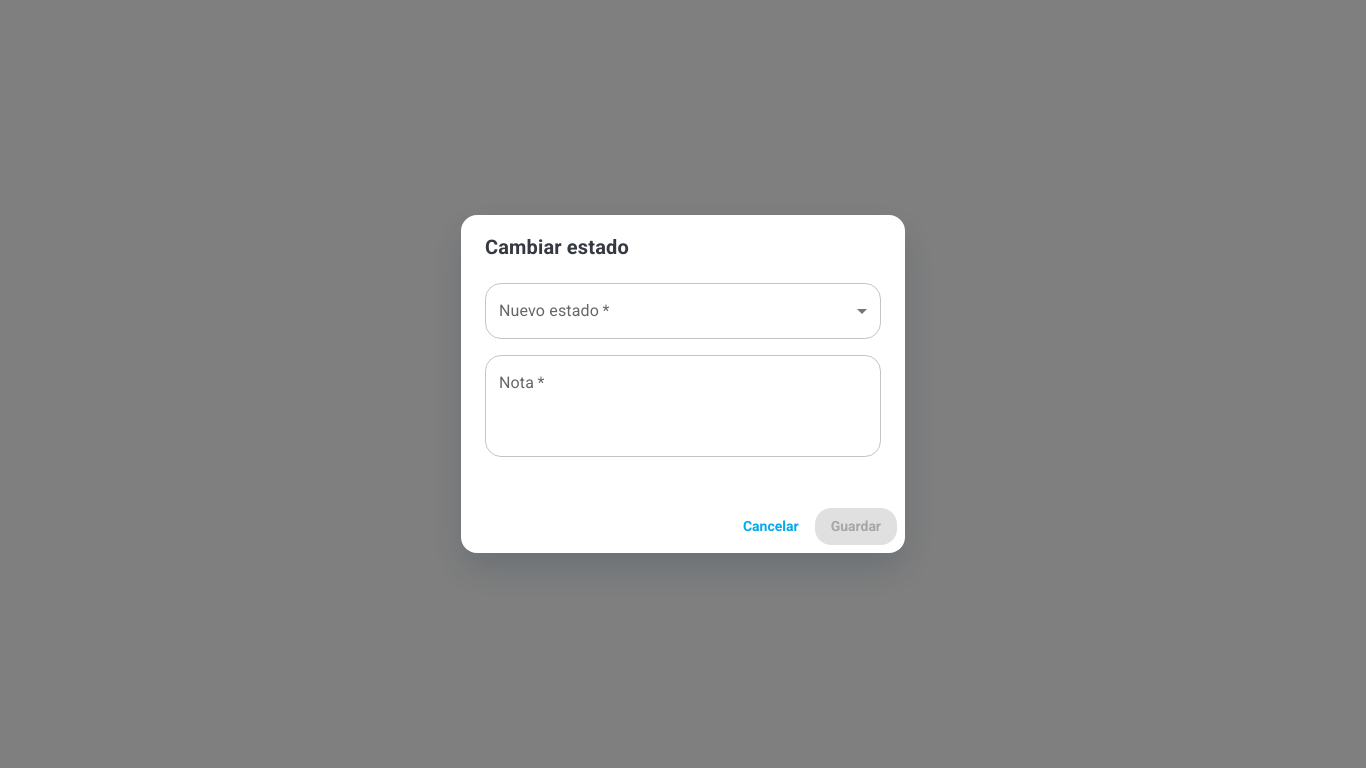
Test: CambiarEstadoDialog › la nota vacía sigue bloqueando el submit aunque haya estado seleccionado
The width and height of the screenshot is (1366, 768).
Click the dropdown named "Nuevo estado".
click(683, 311)  # box x1=485 y1=283 x2=881 y2=339
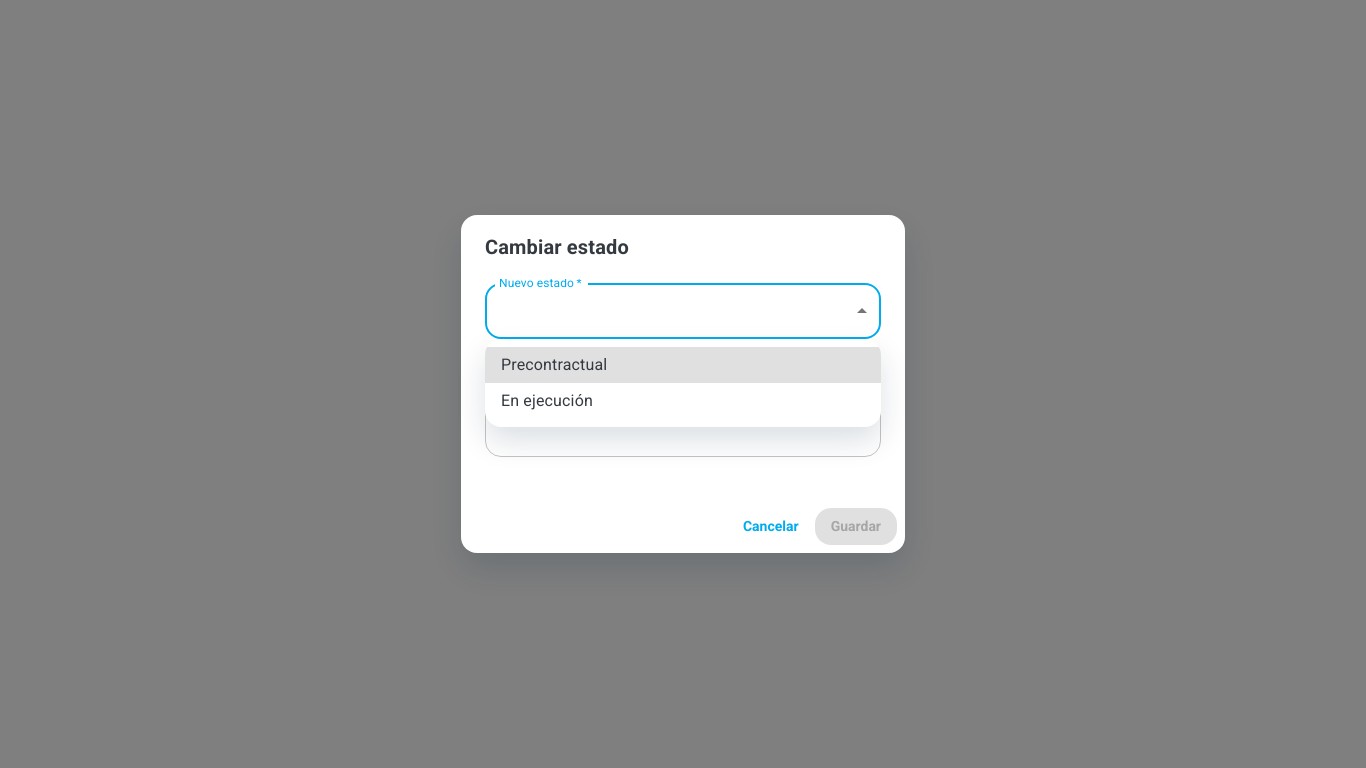
Click the option "En ejecución".
click(547, 400)  # box x1=501 y1=391 x2=593 y2=410
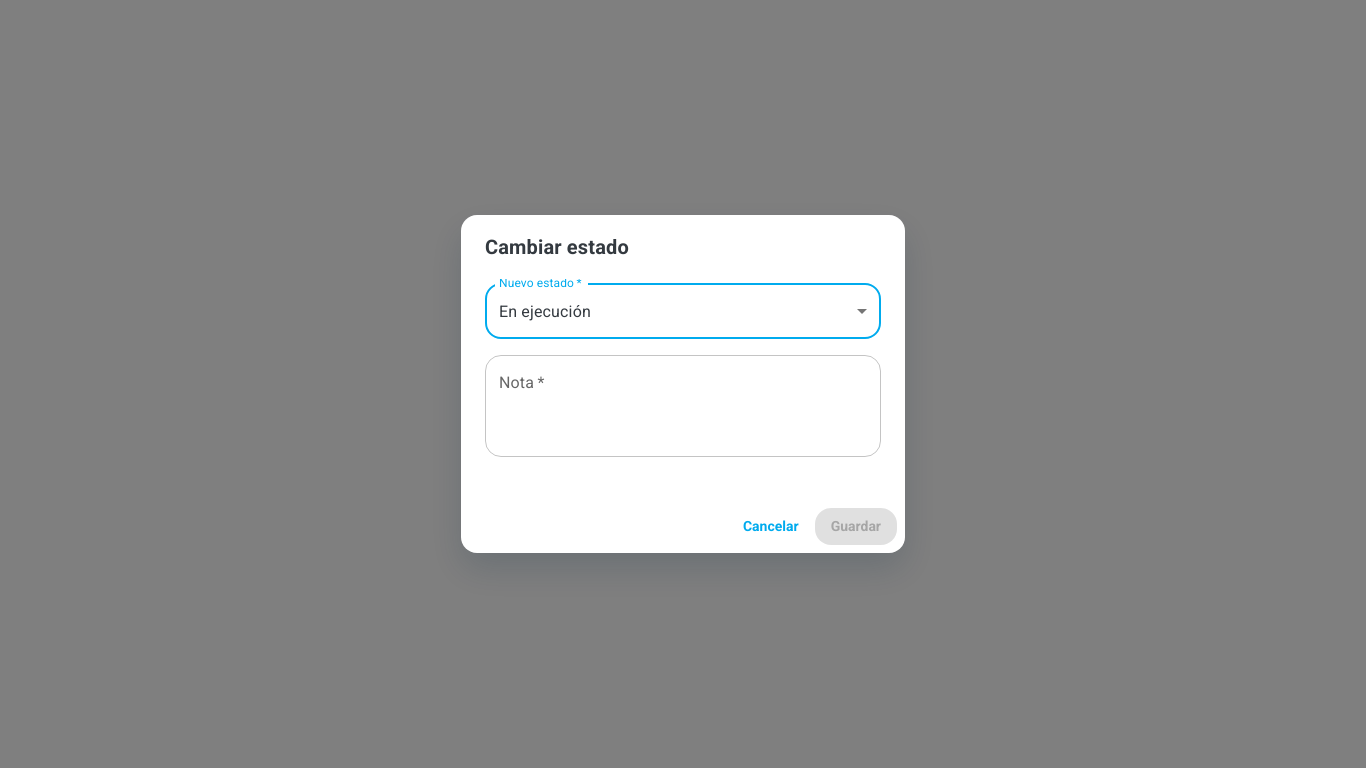
Expected: the button "Guardar" is disabled, x1=815 y1=508 x2=897 y2=545
Click the text box labelled "Nota *".
click(683, 406)  # box x1=499 y1=372 x2=867 y2=441
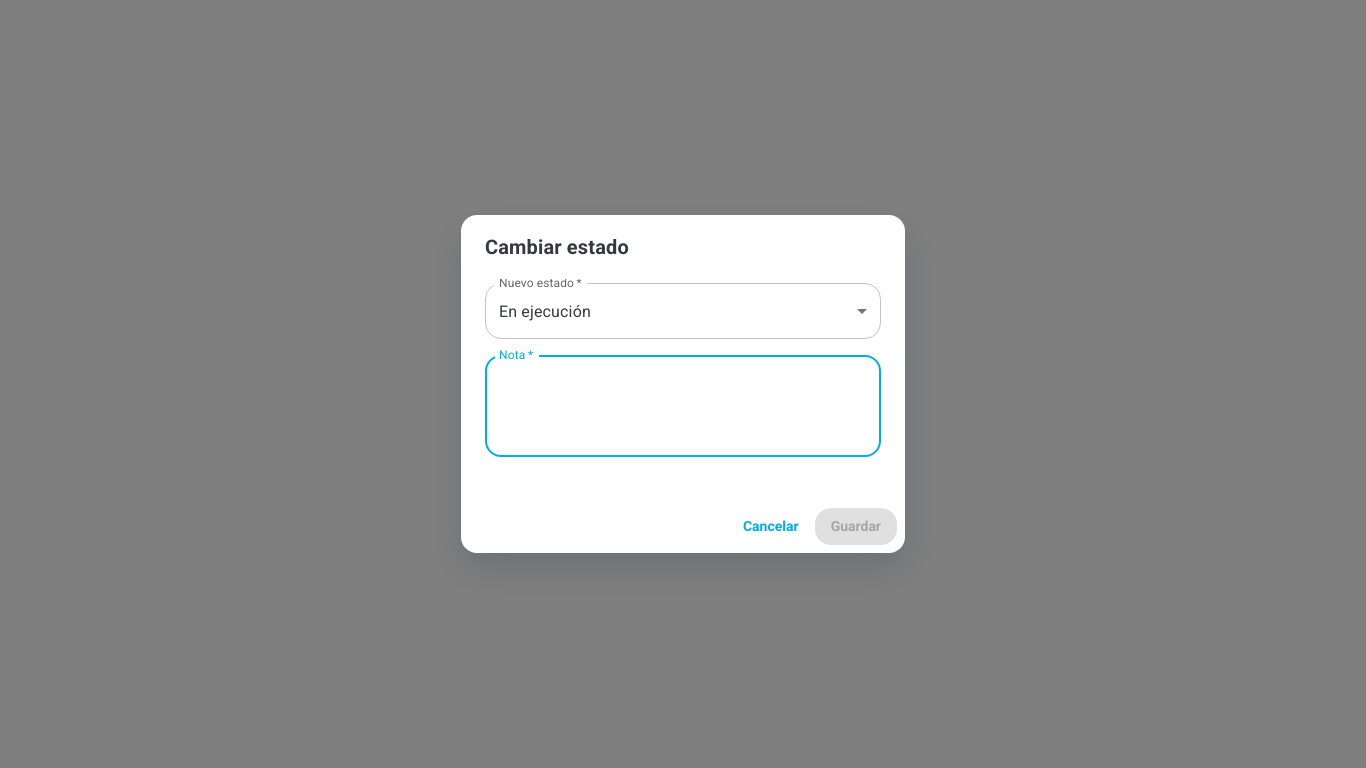
Press Tab
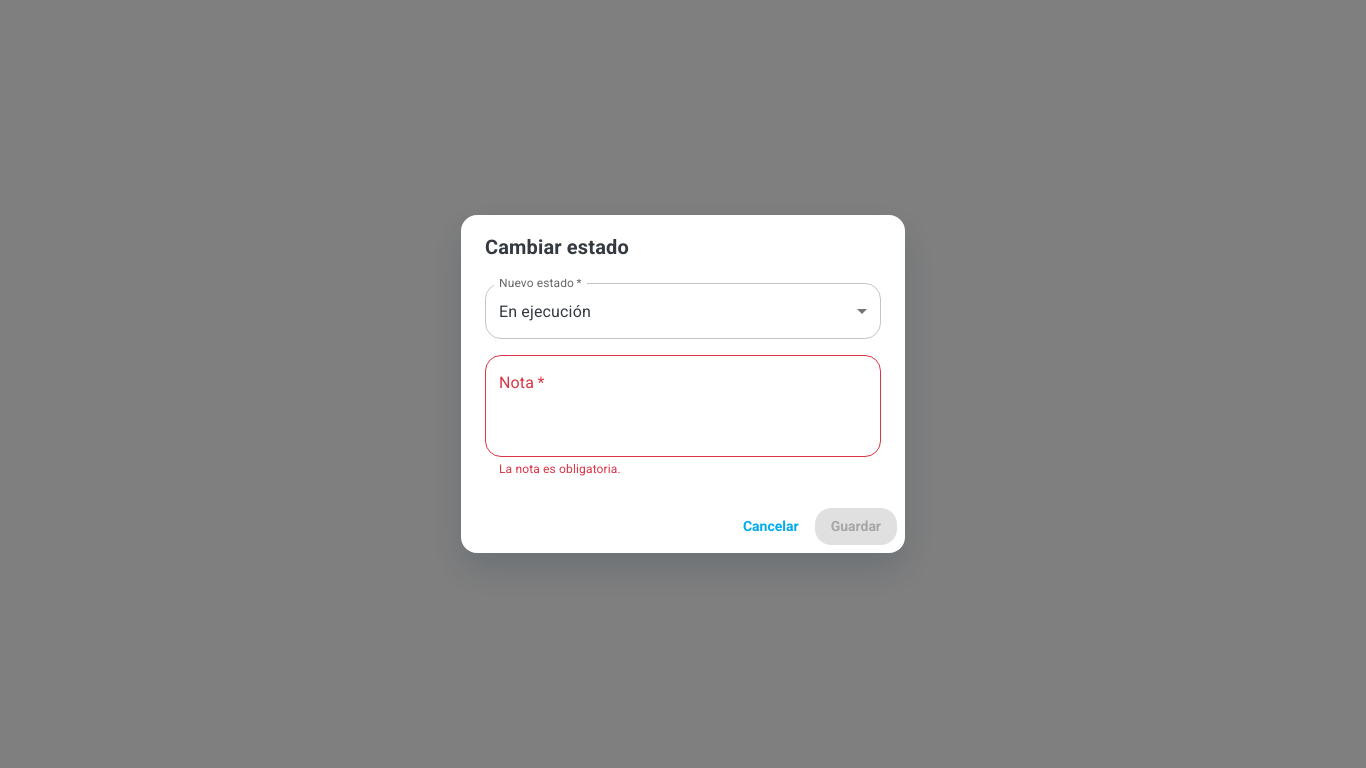
Expected: the text "La nota es obligatoria." is shown, x1=499 y1=462 x2=621 y2=476
